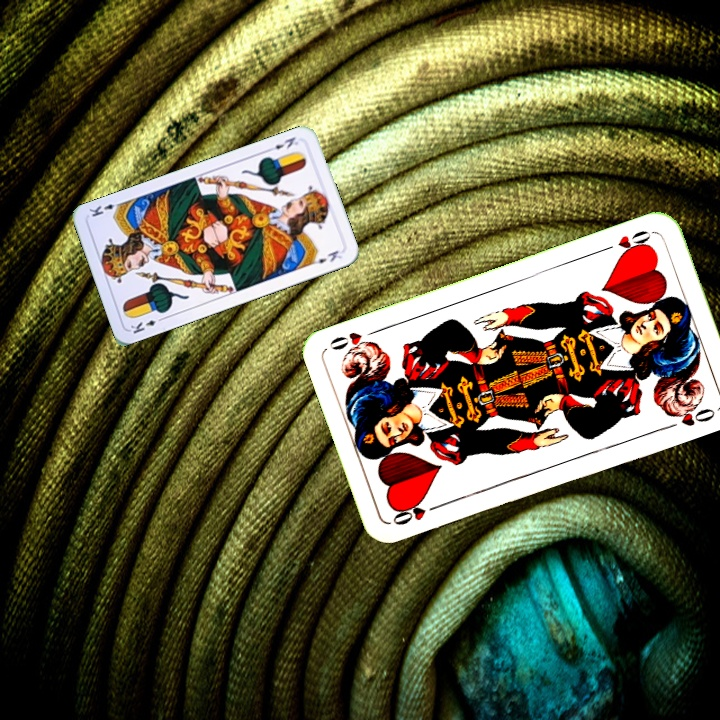EK: (126, 313, 167, 336), (263, 133, 301, 154)
HO: (598, 226, 656, 259), (388, 499, 445, 528)
